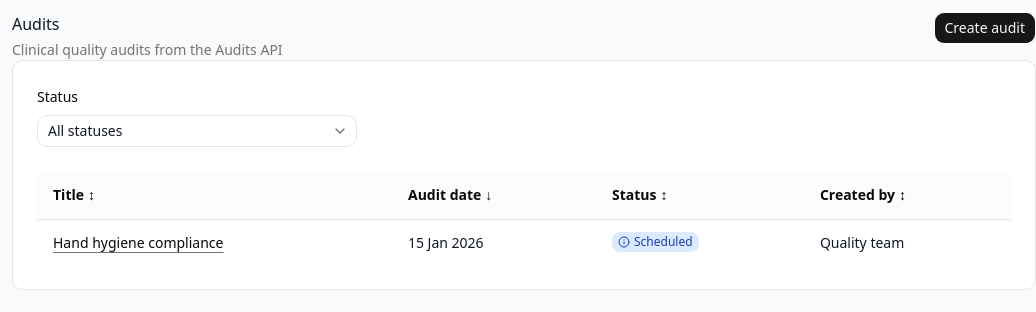
Scenario: AuditsView › keeps DataTable mounted and announces refetch status when status filter changes
The image size is (1036, 312).
Expected: the element named "Audits list, scrollable" is shown, [37, 171, 1011, 265]
Click the dropdown labelled "status".
click(85, 130)  # box [37, 115, 357, 147]
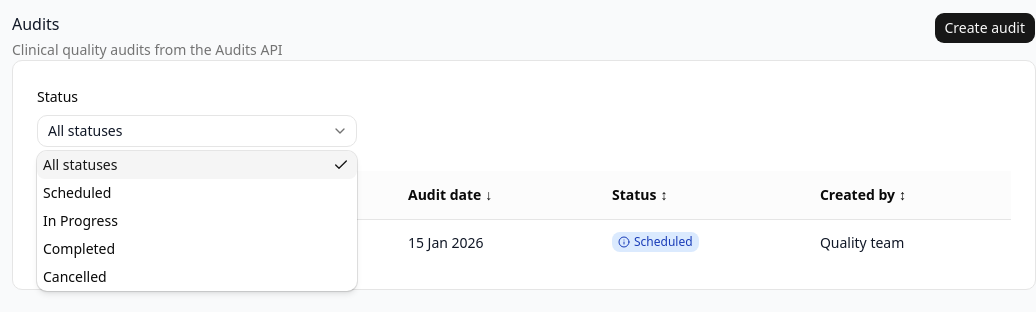
Click the option "Completed".
click(79, 248)  # box [43, 239, 115, 258]
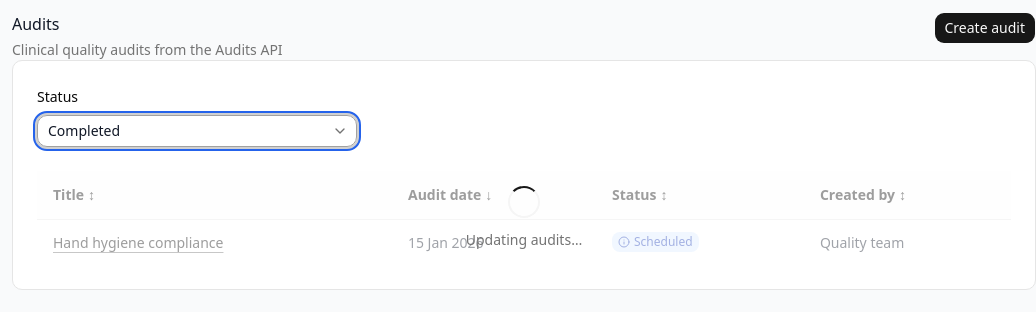
Expected: the element named "Audits list, scrollable" is shown, [37, 171, 1011, 265]
Now the message reads "Updating audits…", box [466, 230, 582, 249]
